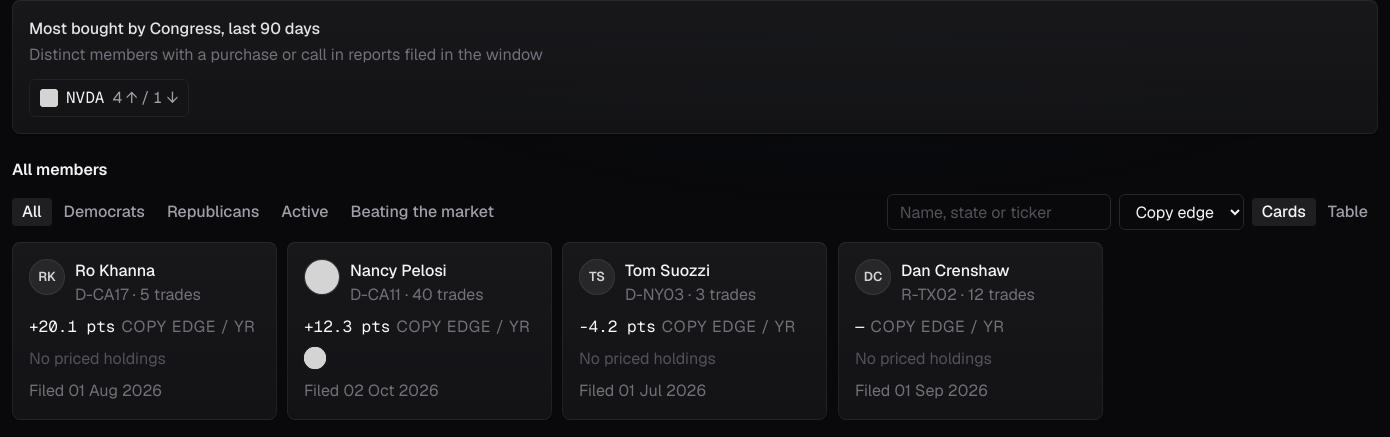
Test: CongressDirectory › says when nothing matches
Type "zzzz zzzz" into the search field named "Search members". click: (999, 212)
box: x1=887 y1=194 x2=1111 y2=230
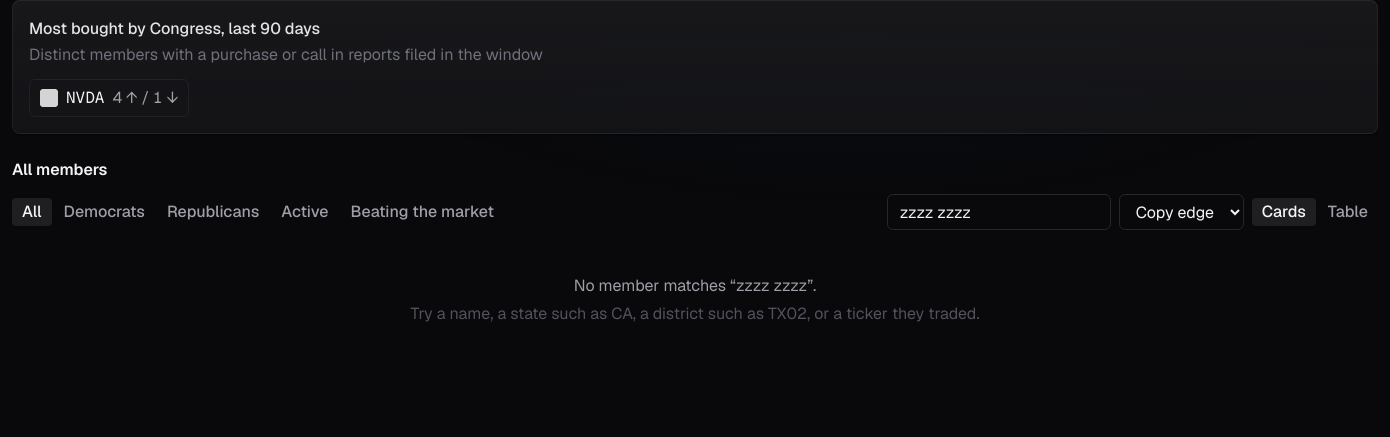
Expected: the text "No member matches “zzzz zzzz”." is shown, x1=574 y1=275 x2=816 y2=296
